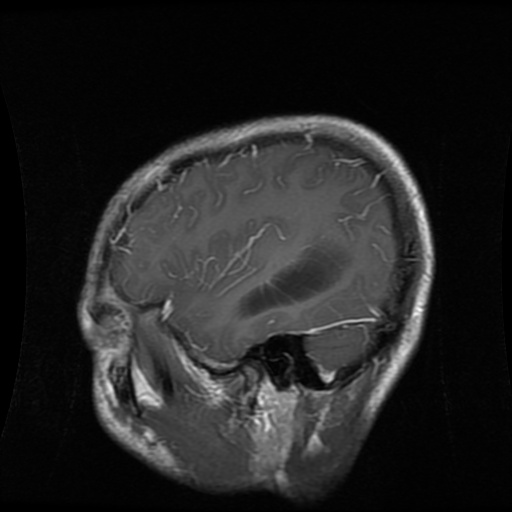glioma: (237, 239, 351, 317)
